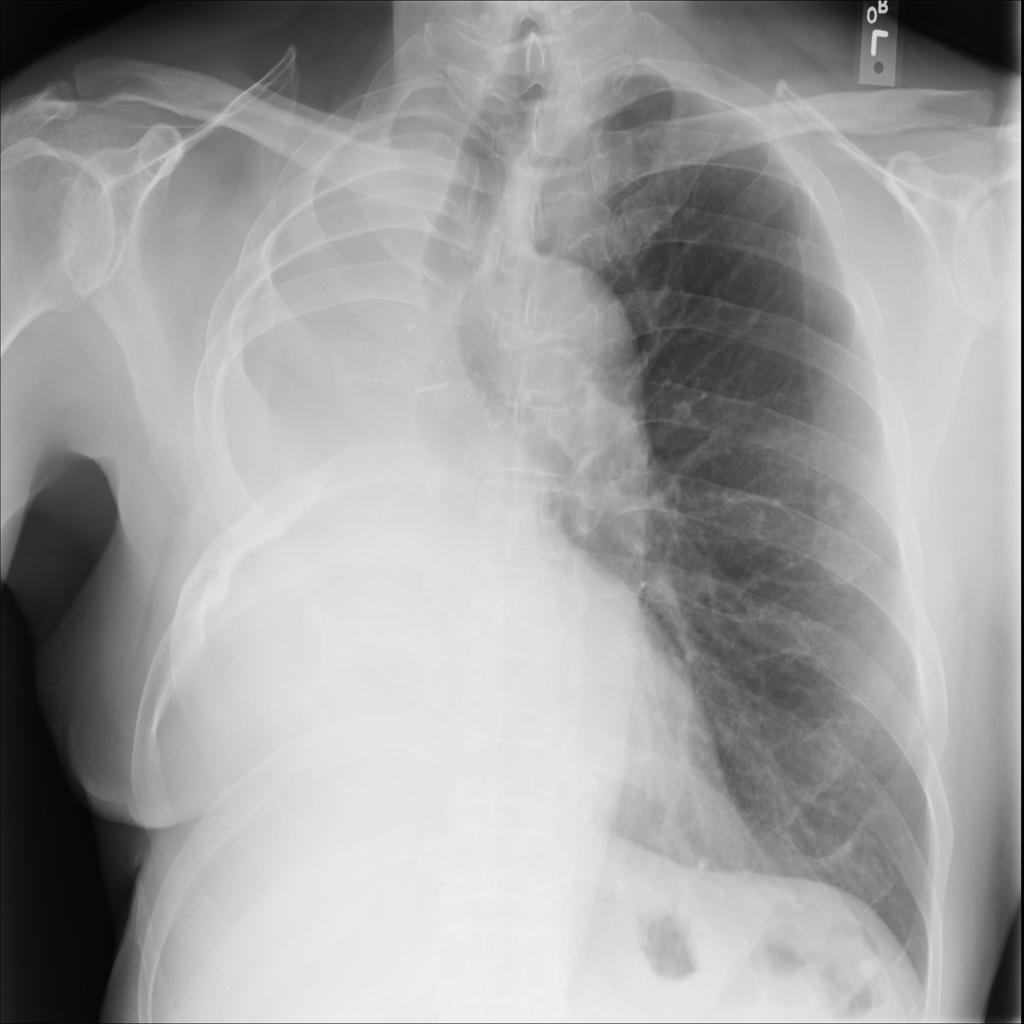nodule: (802, 467, 874, 544)
